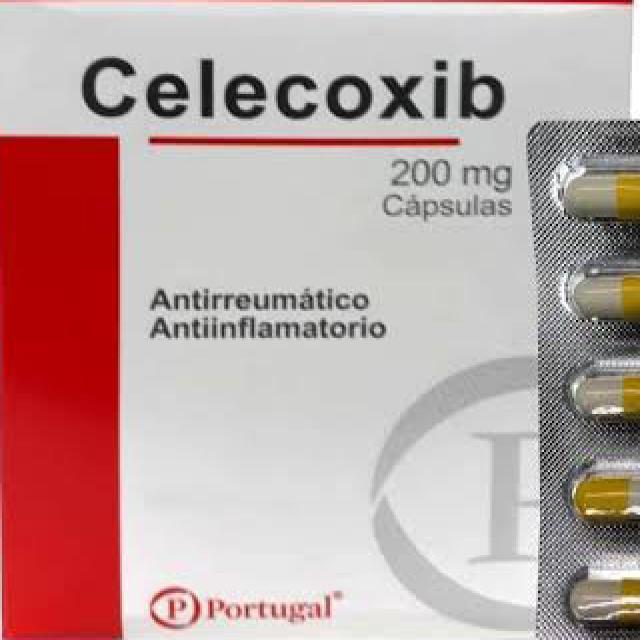drug-name: (76, 49, 512, 128)
